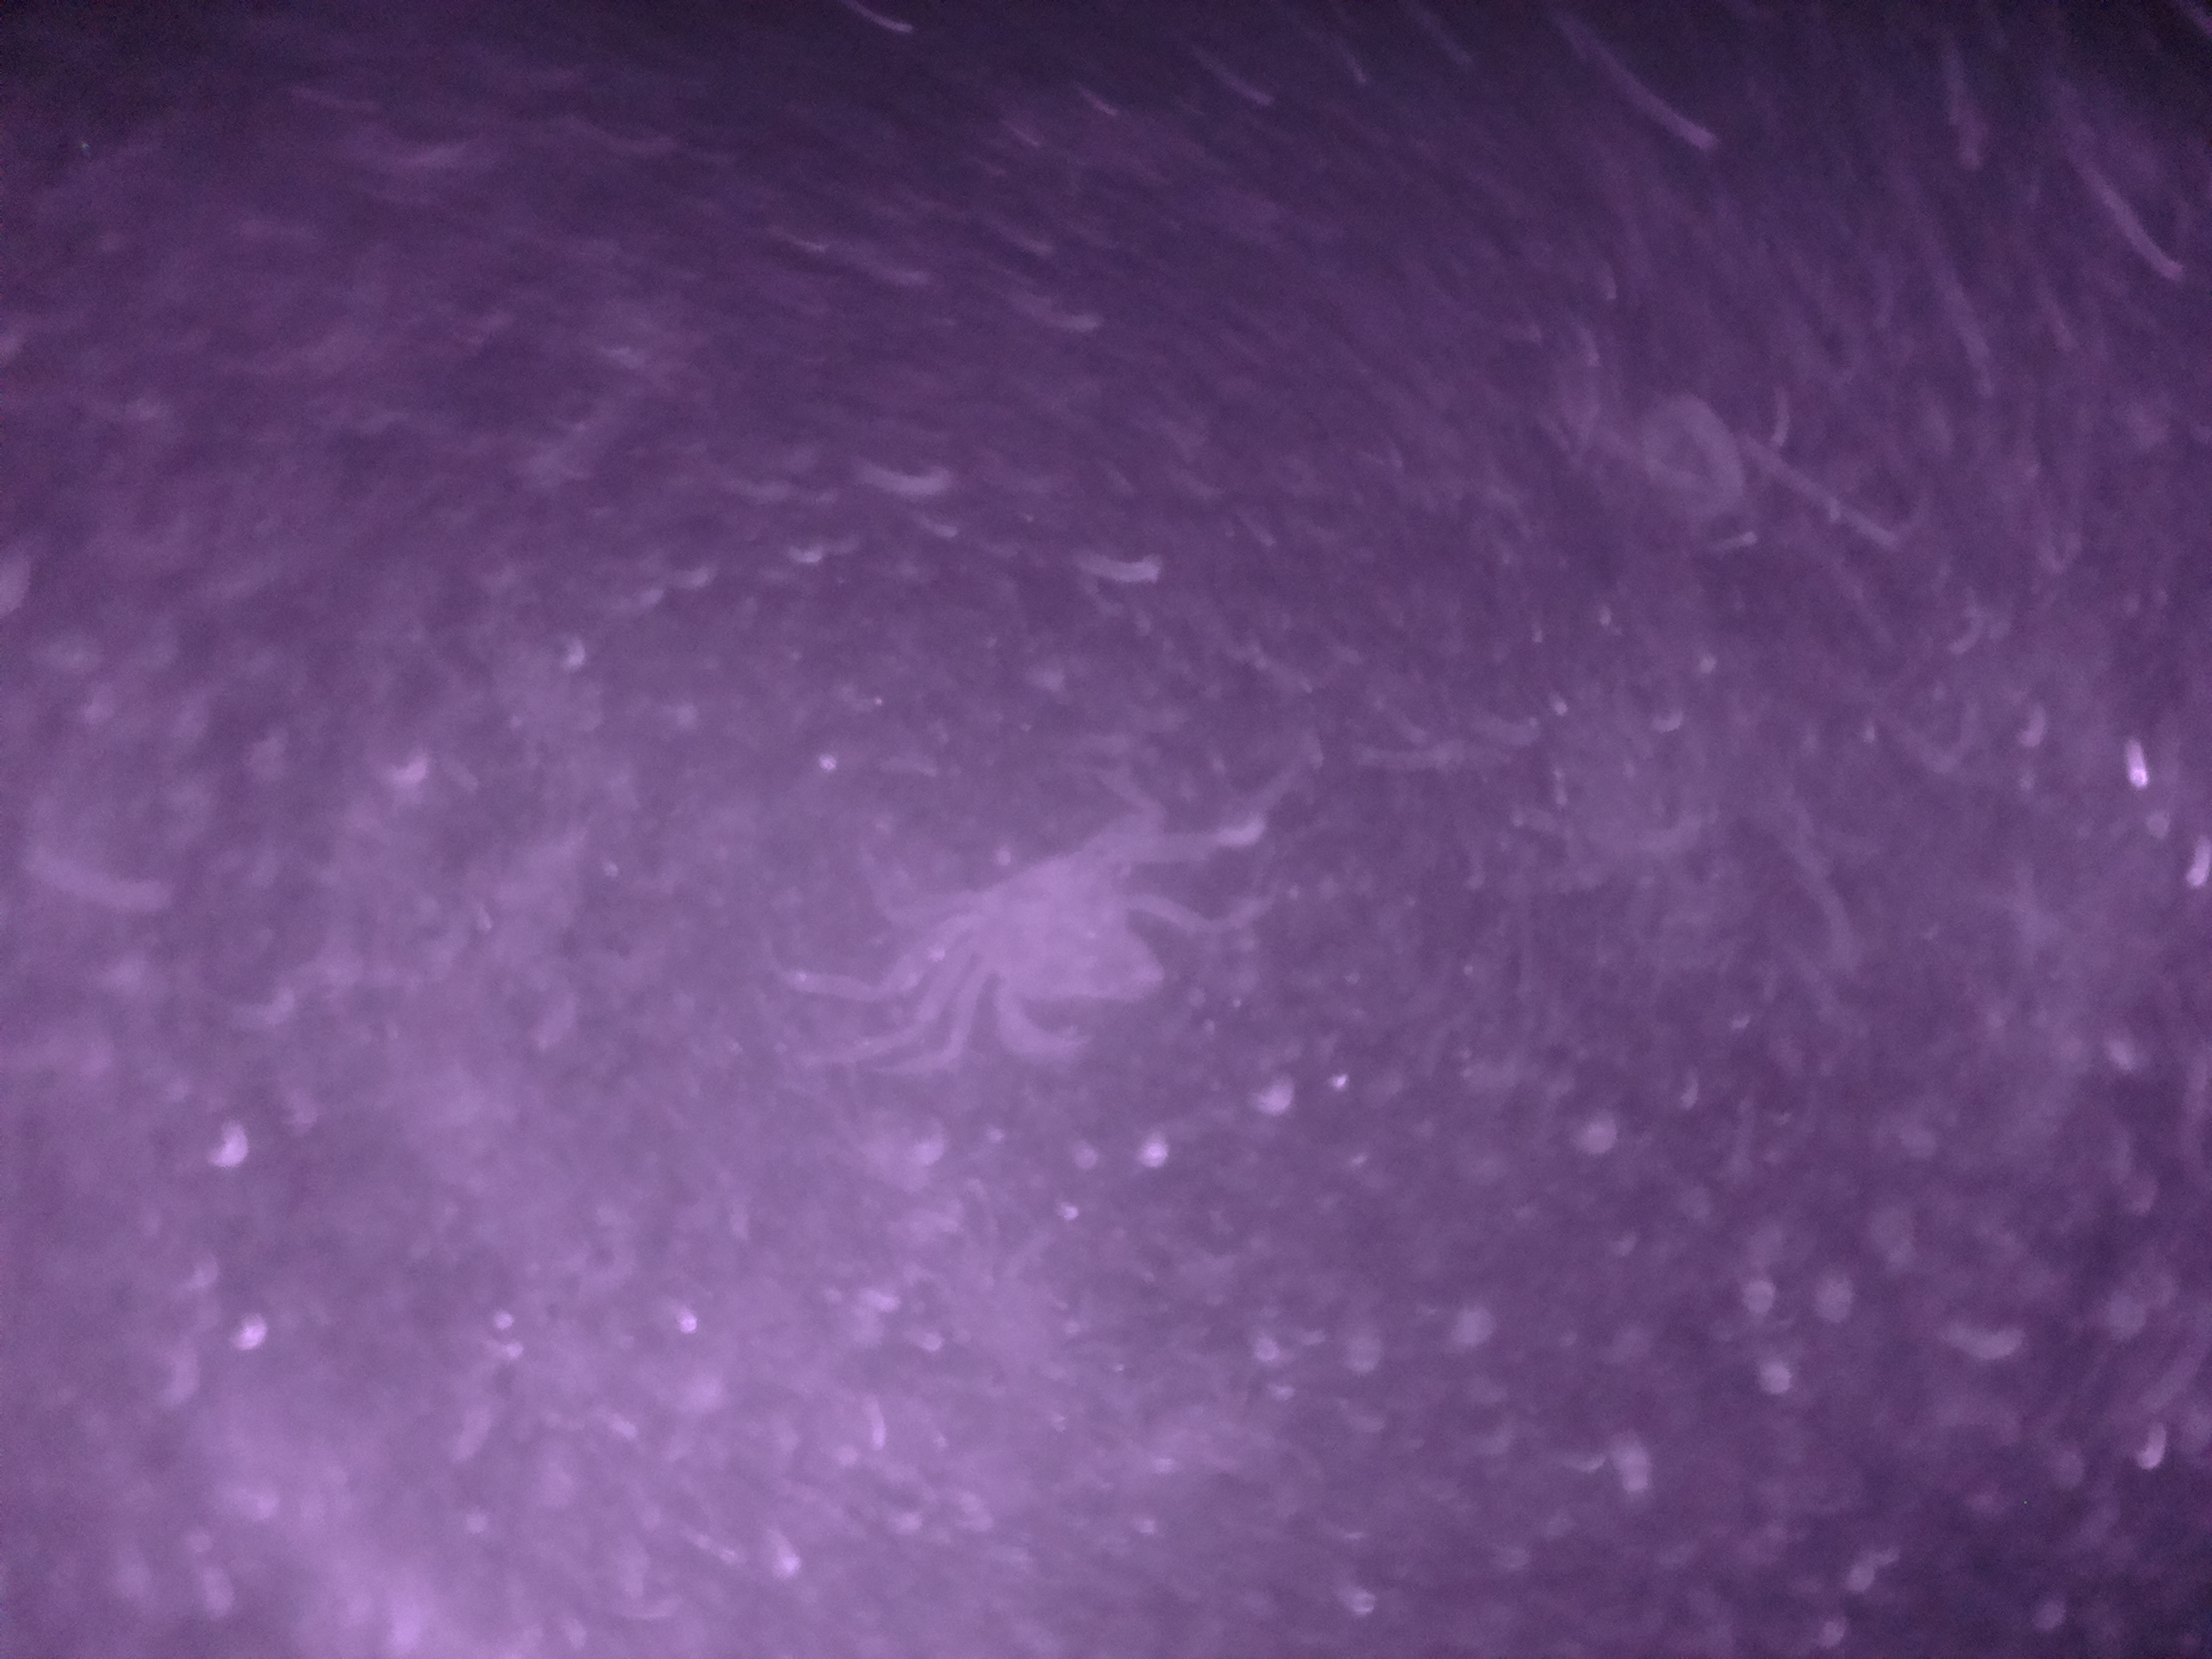Crab: (916, 802, 1190, 1086)
